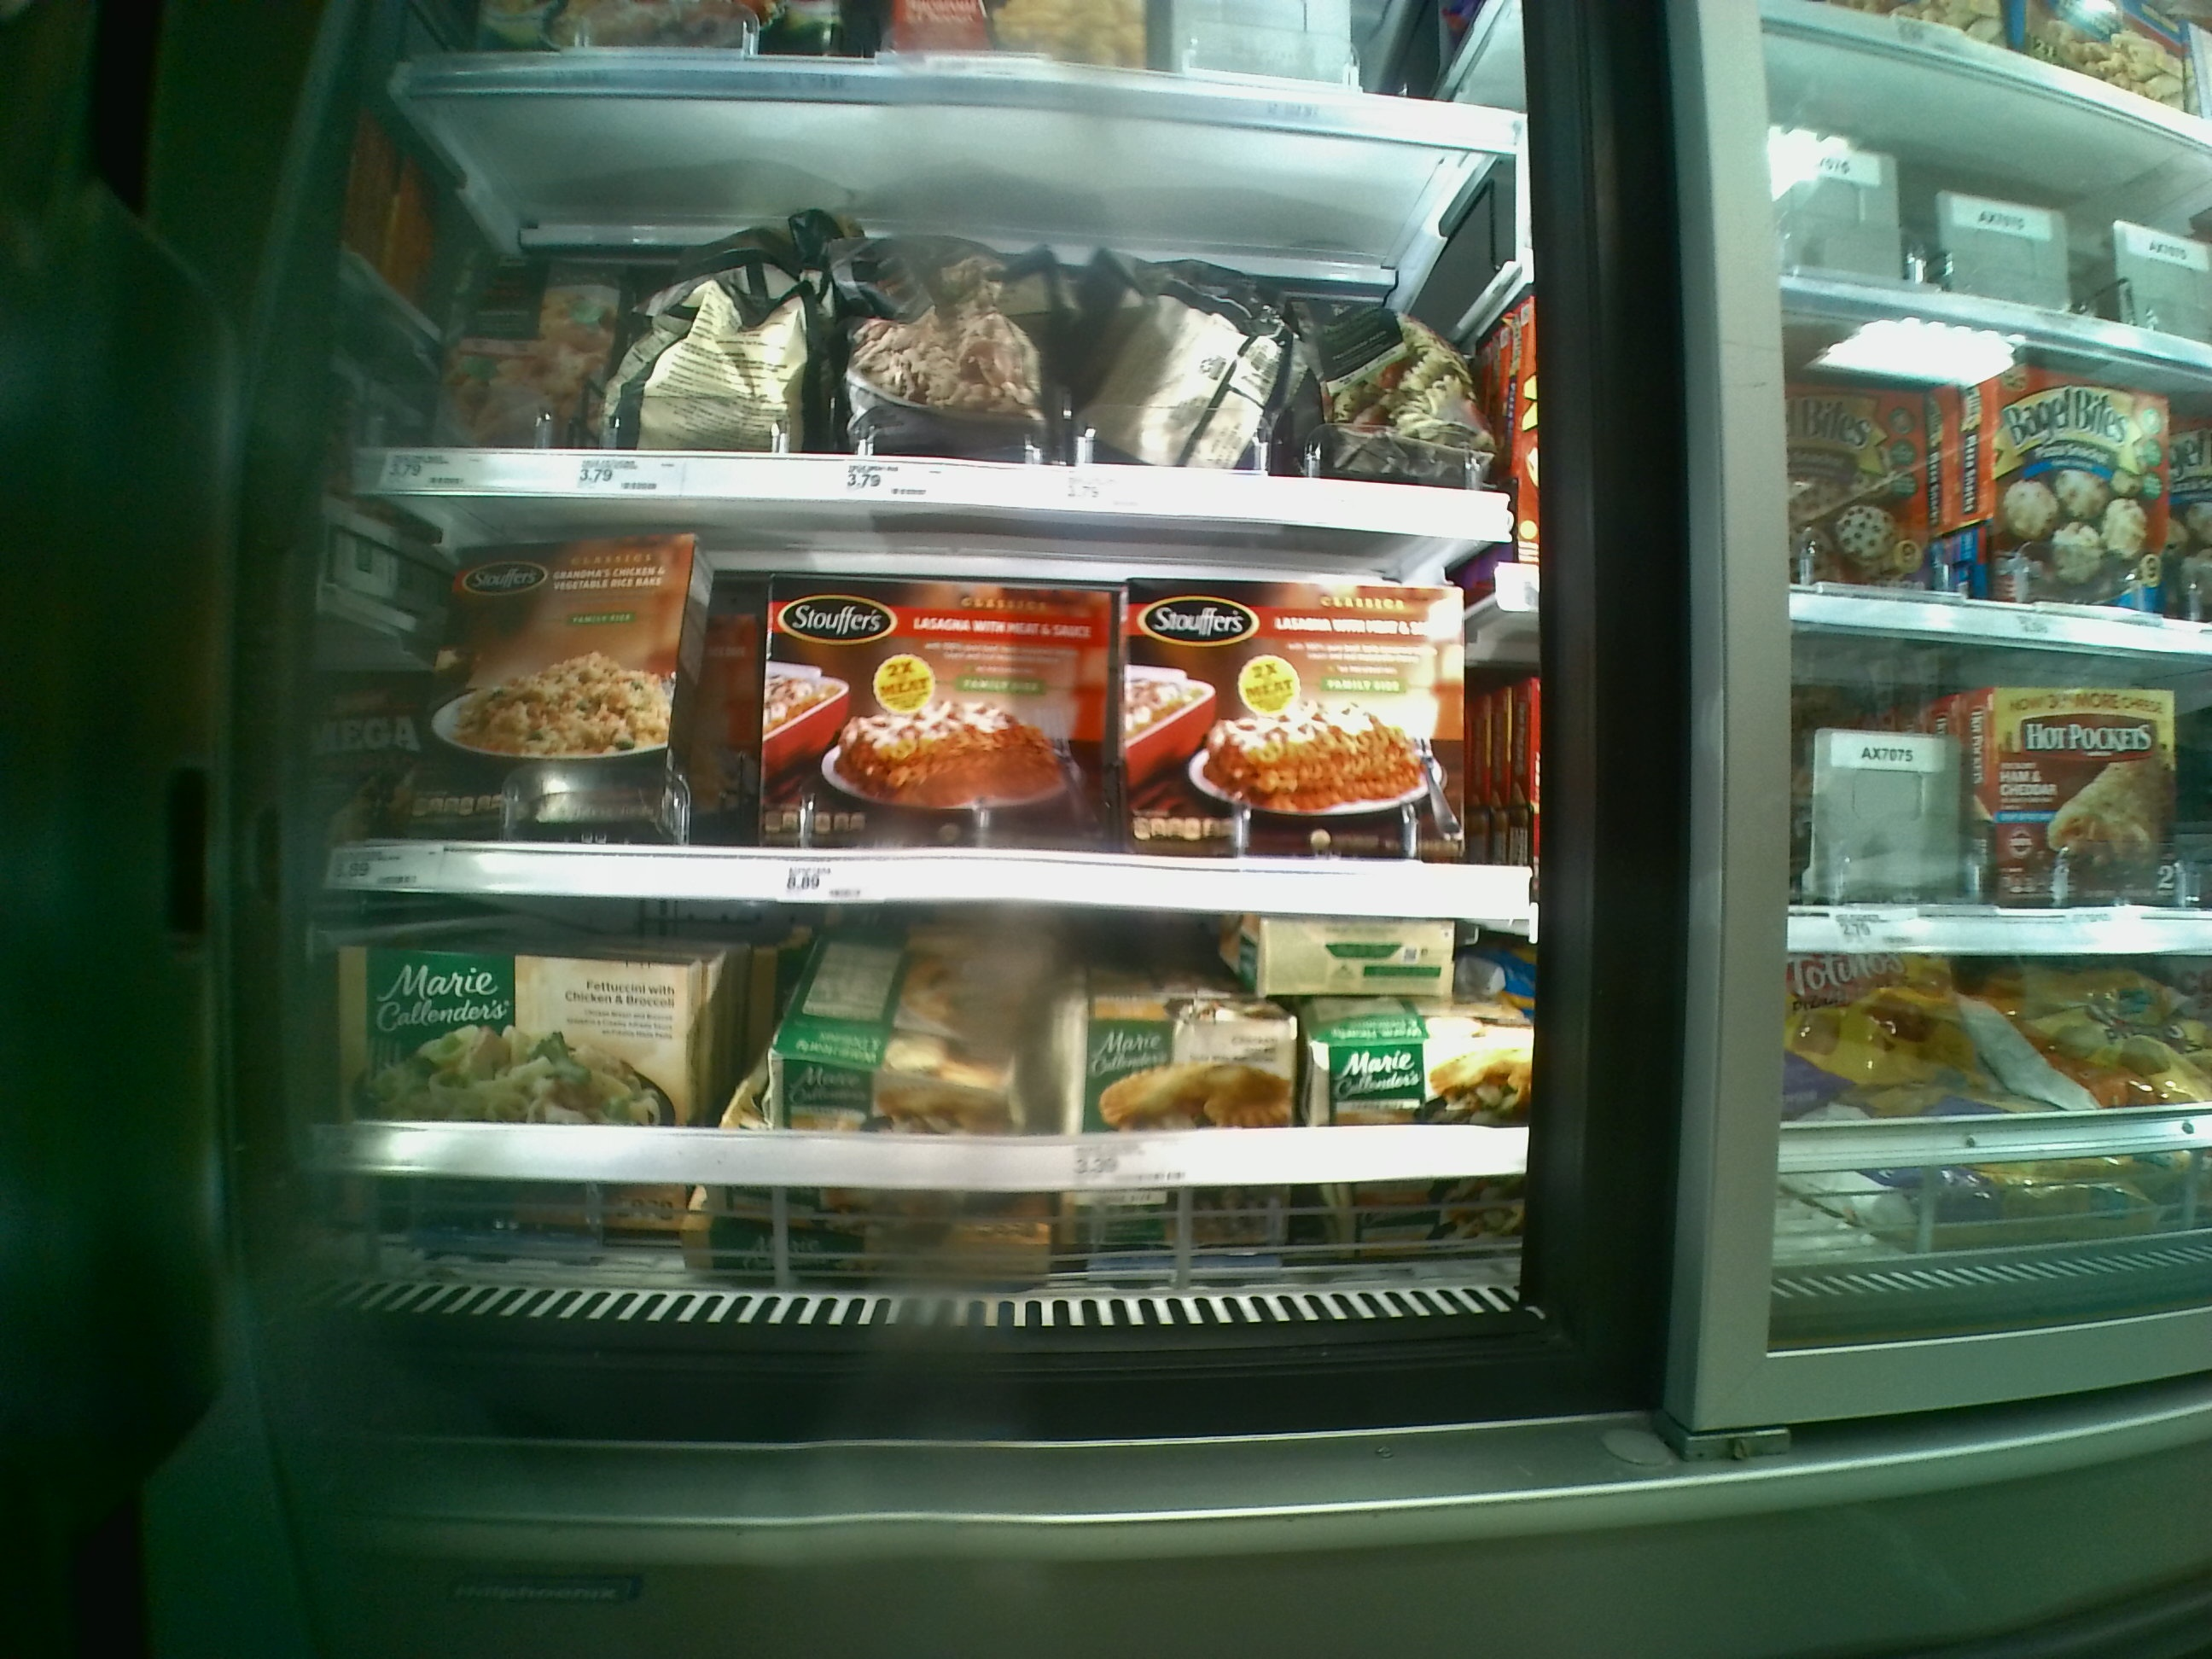shelf: (336, 910, 1529, 1326), (378, 131, 1529, 540), (341, 525, 1526, 920)
